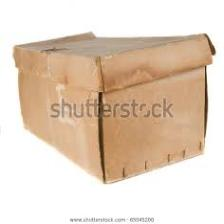cardboard: (0, 0, 218, 190)
